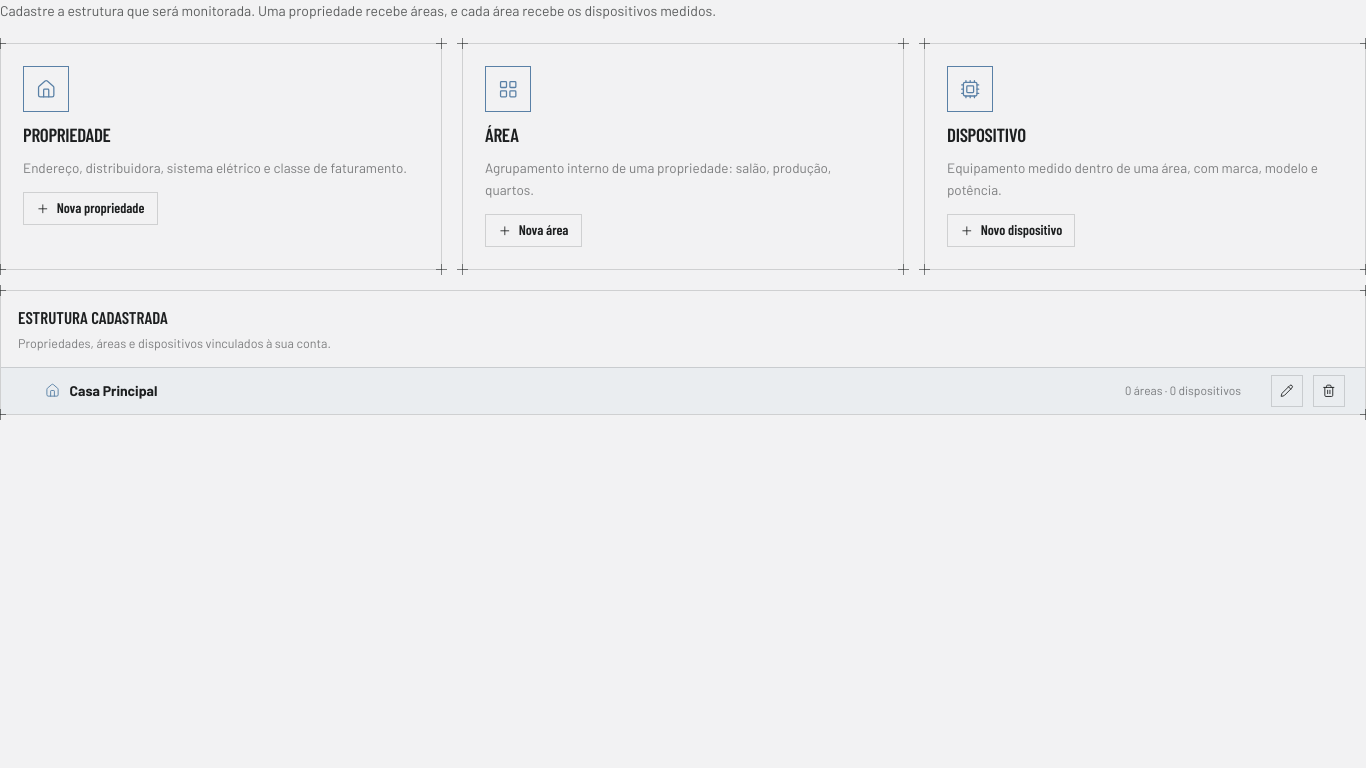
Test case: RegistrationPage — com propriedades cadastradas › abre o modal de propriedade
Click the button "Nova propriedade".
click(90, 208)  # box x1=23 y1=192 x2=158 y2=225
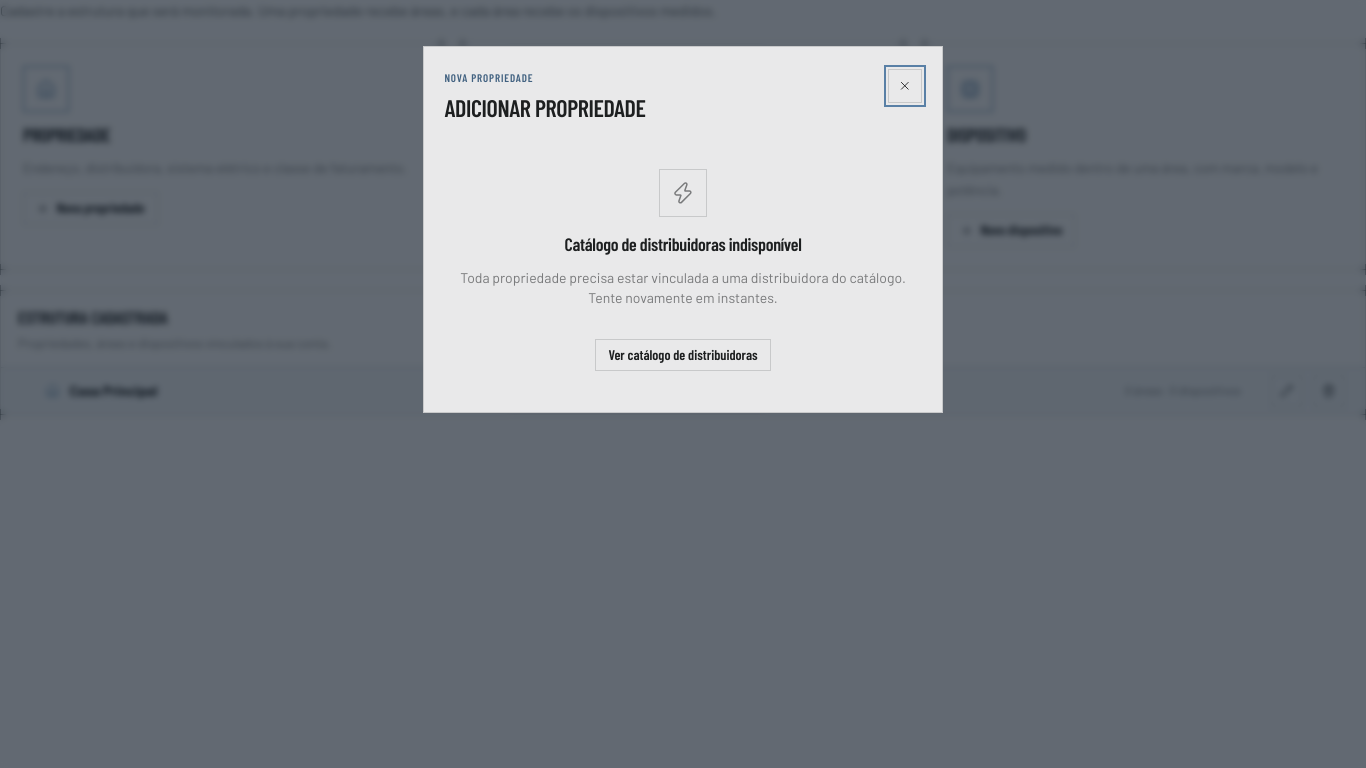
Check: the dialog "Adicionar propriedade" is shown, box x1=423 y1=46 x2=943 y2=413
